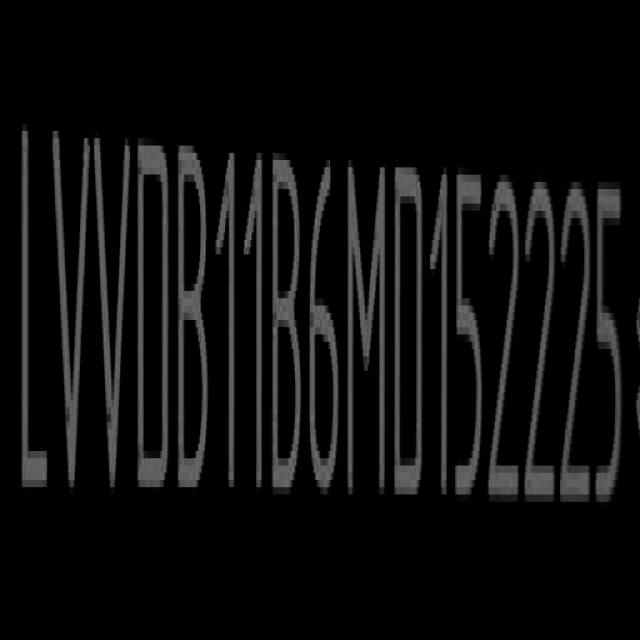1: (213, 132, 244, 504), (243, 129, 266, 501), (430, 162, 451, 504)
2: (488, 153, 520, 512), (559, 180, 591, 507), (524, 167, 554, 514)
5: (595, 170, 626, 530), (455, 151, 483, 509)
6: (306, 140, 340, 501)
B: (176, 140, 211, 504), (271, 140, 303, 506)
D: (133, 121, 172, 504), (393, 145, 427, 501)
L: (19, 118, 49, 493)
M: (345, 137, 389, 496)
V: (51, 121, 91, 496), (93, 116, 131, 503)
